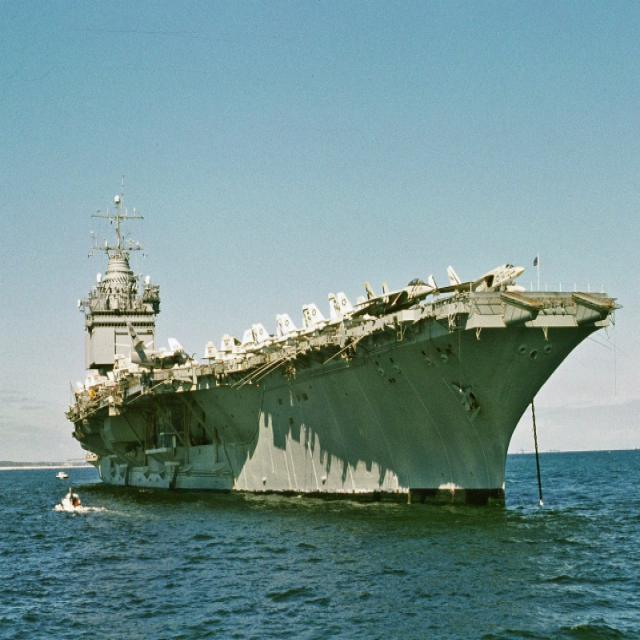Portanaves: (61, 169, 620, 515)
